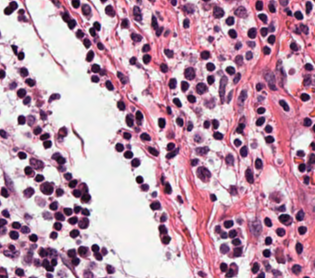nucleus: (197, 167, 210, 180), (219, 76, 226, 100), (30, 158, 43, 169), (40, 183, 52, 194), (235, 6, 246, 17), (184, 67, 194, 79), (133, 6, 141, 20), (245, 168, 253, 182), (213, 6, 223, 17), (196, 83, 206, 93), (279, 214, 289, 224), (105, 5, 114, 16), (166, 149, 177, 158), (279, 100, 288, 110), (79, 218, 88, 228), (82, 4, 90, 15), (117, 72, 125, 83), (196, 147, 208, 154), (81, 193, 90, 202), (248, 28, 256, 38), (131, 33, 141, 41), (200, 51, 210, 59), (148, 147, 158, 155), (225, 154, 233, 164), (150, 201, 160, 209), (239, 90, 246, 101), (91, 64, 100, 72), (58, 127, 66, 136), (56, 156, 65, 164), (55, 212, 64, 220), (68, 216, 77, 224), (233, 73, 240, 83), (181, 81, 188, 91), (49, 94, 59, 101), (240, 146, 247, 156), (255, 158, 262, 168), (296, 210, 303, 220), (136, 111, 142, 122), (152, 16, 157, 29), (294, 11, 302, 19), (62, 13, 70, 21), (258, 13, 266, 21), (260, 28, 268, 36), (290, 42, 298, 50), (164, 49, 172, 57), (226, 66, 234, 74), (105, 81, 113, 89), (187, 94, 195, 102), (173, 98, 181, 106), (256, 117, 264, 125), (236, 124, 244, 132), (43, 140, 51, 148), (115, 143, 123, 151), (131, 158, 139, 166), (298, 226, 306, 234), (276, 228, 284, 236), (70, 229, 78, 237), (68, 19, 75, 28), (93, 21, 100, 30), (300, 24, 307, 33), (86, 51, 93, 60), (235, 55, 242, 64), (160, 63, 167, 72), (213, 132, 222, 139), (40, 133, 49, 140), (140, 133, 149, 140), (264, 217, 271, 226), (306, 1, 311, 13), (269, 2, 275, 12), (169, 78, 175, 88), (126, 115, 132, 125), (158, 118, 164, 128), (165, 183, 171, 193), (121, 19, 128, 27), (229, 29, 236, 37), (83, 39, 90, 47), (263, 46, 270, 54), (143, 55, 150, 63), (206, 63, 214, 70), (301, 93, 309, 100), (117, 101, 124, 109), (124, 151, 132, 158), (35, 174, 43, 181), (49, 202, 57, 209), (224, 220, 232, 227), (159, 225, 166, 233), (228, 230, 236, 237), (29, 234, 37, 241), (162, 236, 170, 243), (212, 119, 218, 128), (227, 91, 232, 101), (72, 0, 79, 7), (226, 17, 233, 24), (76, 30, 83, 37), (142, 44, 149, 51), (305, 63, 312, 70), (304, 118, 311, 125), (33, 127, 40, 134), (123, 132, 130, 139), (167, 143, 174, 150), (298, 164, 305, 171), (69, 180, 76, 187), (56, 188, 63, 195), (54, 222, 61, 229), (256, 1, 262, 9), (184, 6, 192, 12), (156, 27, 162, 35), (89, 28, 95, 36), (268, 35, 274, 43), (246, 51, 252, 59), (207, 76, 213, 84), (265, 136, 273, 142), (81, 183, 87, 191), (230, 186, 236, 194), (72, 190, 80, 196), (81, 209, 89, 215), (43, 212, 51, 218), (232, 239, 240, 245), (235, 42, 241, 49), (256, 83, 262, 90), (257, 107, 264, 113), (176, 118, 182, 125), (204, 120, 210, 127), (265, 125, 271, 132), (52, 153, 59, 159), (64, 173, 71, 179), (136, 176, 142, 183), (141, 184, 148, 190), (64, 208, 71, 214), (160, 214, 166, 221), (220, 232, 227, 238), (265, 237, 271, 244), (183, 19, 188, 27), (40, 111, 45, 119), (187, 122, 192, 130), (97, 43, 103, 49), (304, 78, 310, 84), (234, 139, 240, 145), (297, 150, 303, 156), (309, 154, 313, 163), (191, 159, 197, 165), (74, 206, 80, 212), (50, 232, 56, 238), (247, 41, 254, 46), (130, 57, 135, 64), (91, 76, 98, 81), (278, 205, 285, 210), (286, 9, 291, 15), (177, 196, 182, 202), (215, 226, 220, 232), (304, 176, 308, 183), (211, 194, 215, 200), (171, 1, 176, 5), (99, 70, 104, 74), (281, 1, 287, 4), (167, 107, 170, 113), (208, 37, 212, 41), (59, 166, 63, 170), (270, 25, 273, 29), (290, 69, 293, 73)
